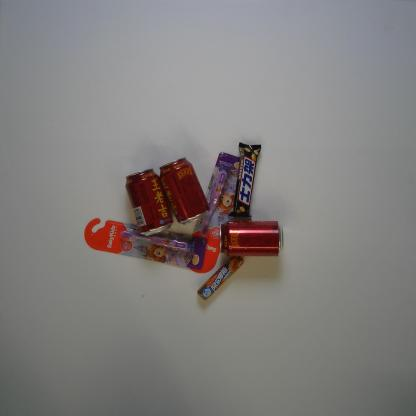Candy: (197, 256, 244, 301)
Chocolate: (228, 141, 262, 218)
Drink: (159, 156, 211, 226), (125, 168, 174, 237), (219, 220, 284, 258)
Personal Hygiene: (187, 151, 241, 274), (83, 218, 208, 270)
